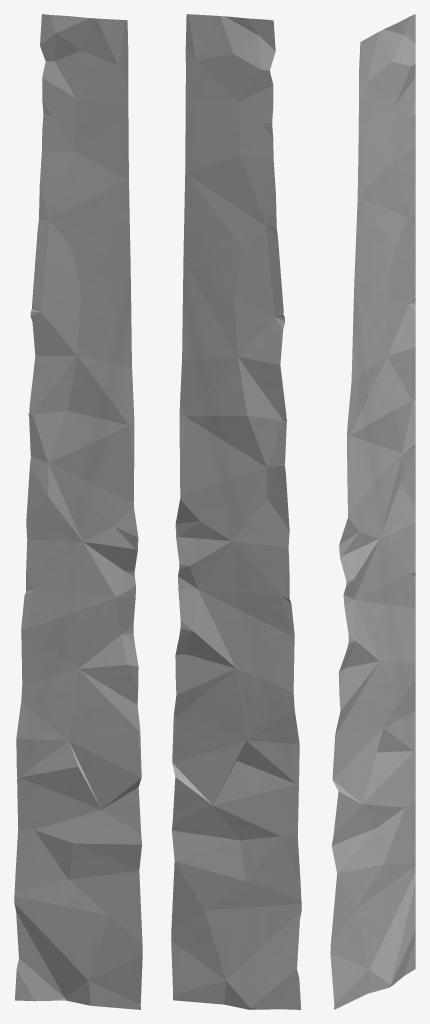
3 renders of one model, left to right at view 1: azimuth 30°, elevation 25°; view 2: azimuth 210°, elevation 25°; view 3: azimuth 270°, elevation 25°, orthographic. The views are drawn at different scales.
Size of the model in its own units: 0.1528 by 1.67 by 0.1335.
Materials: 1 (1 with a texture image).
